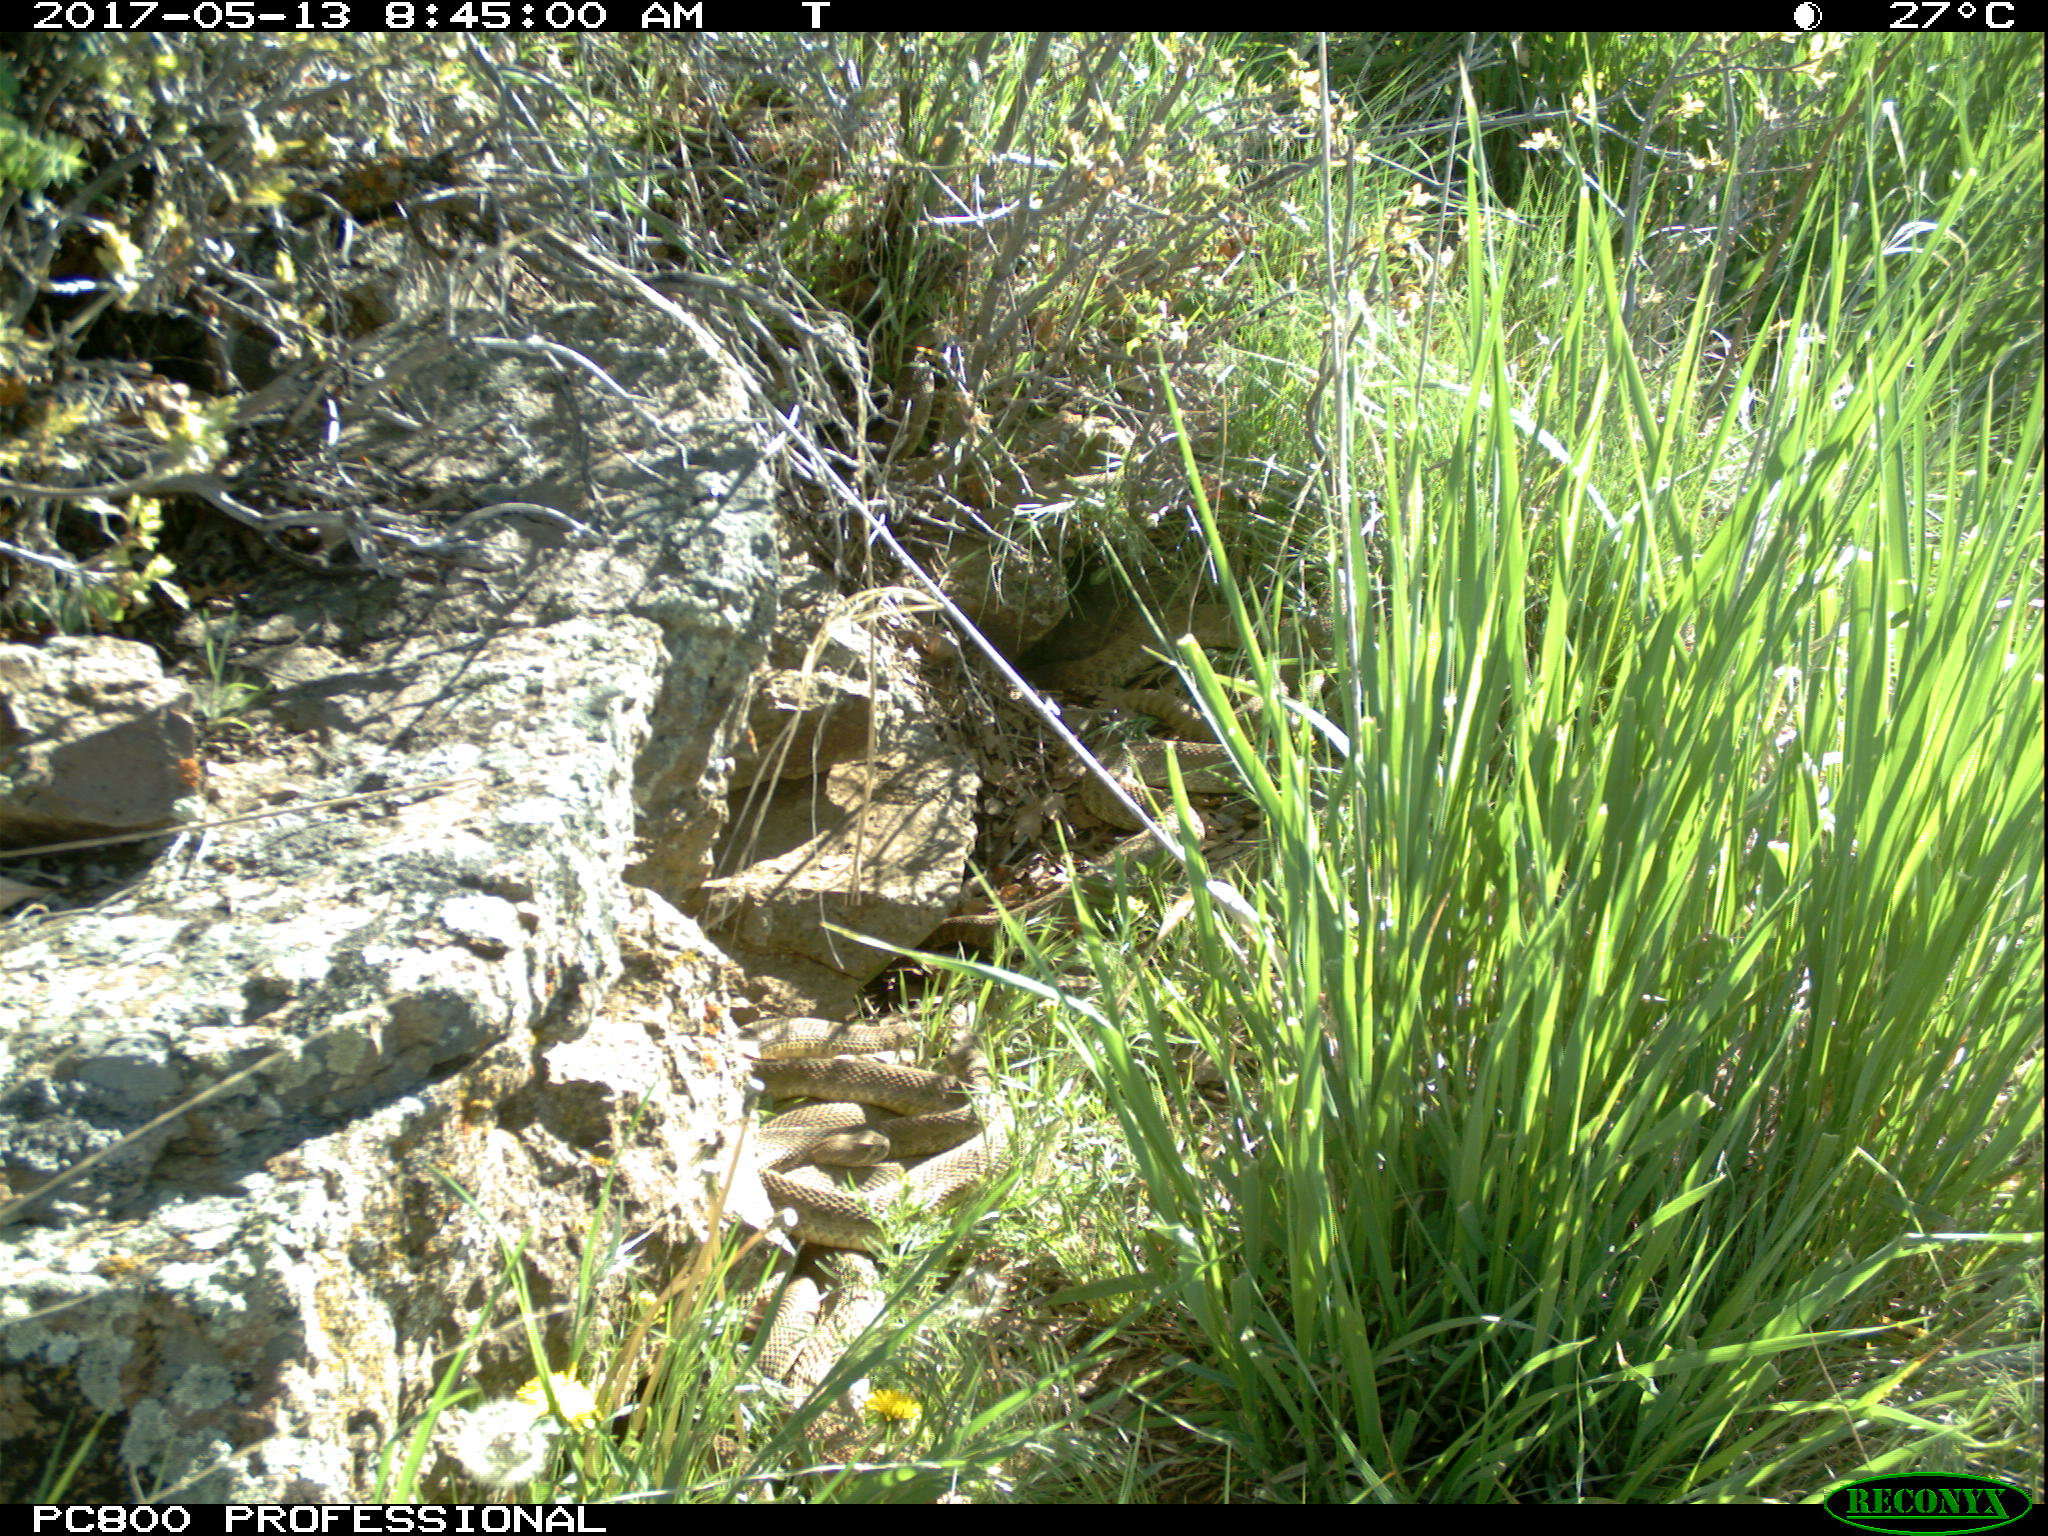snake: (745, 1102, 1030, 1228), (742, 1005, 1013, 1134), (1074, 599, 1343, 692), (756, 1250, 884, 1417), (1087, 736, 1255, 820), (1098, 687, 1218, 737)
